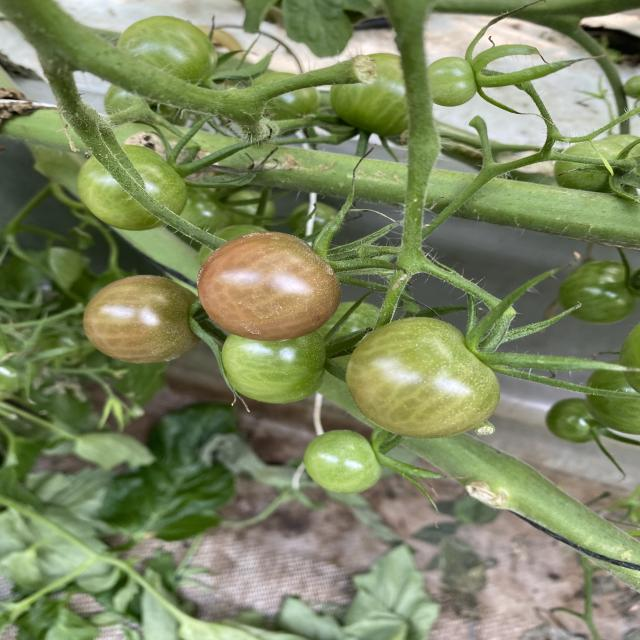yesil: (362, 308, 506, 440), (59, 130, 182, 229), (292, 404, 373, 502)
